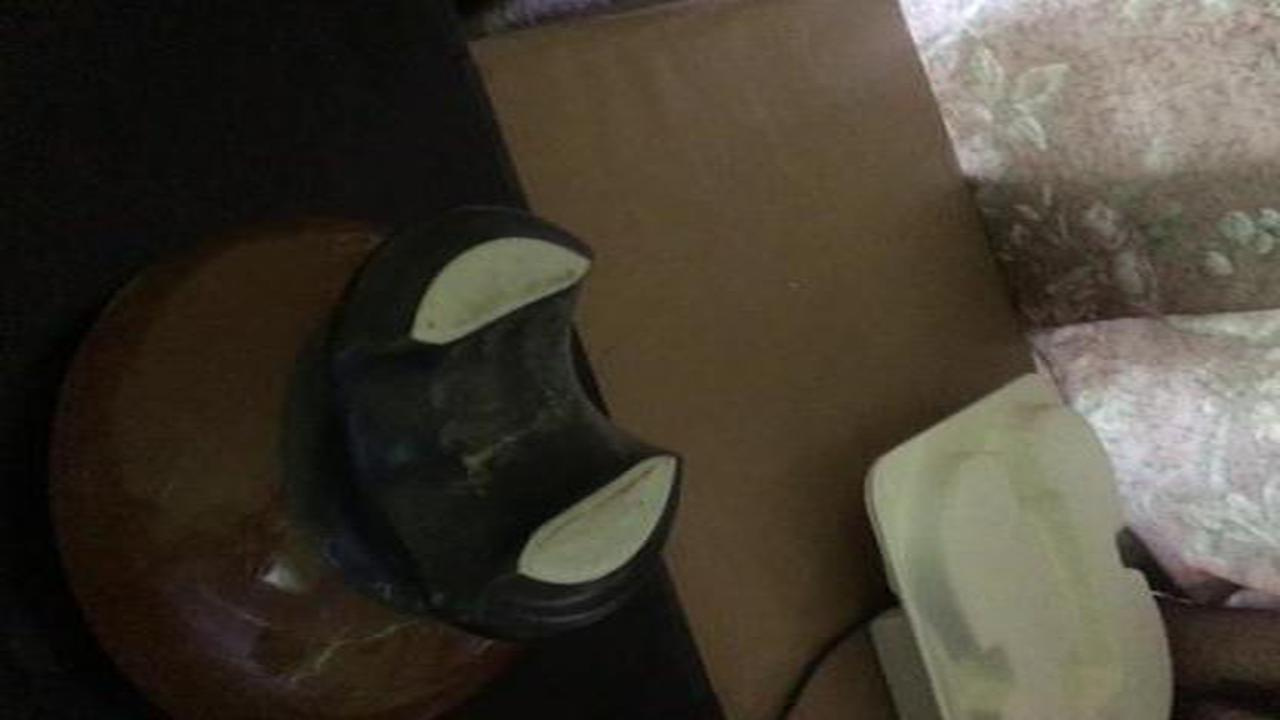insulator_pin: (31, 212, 699, 715)
